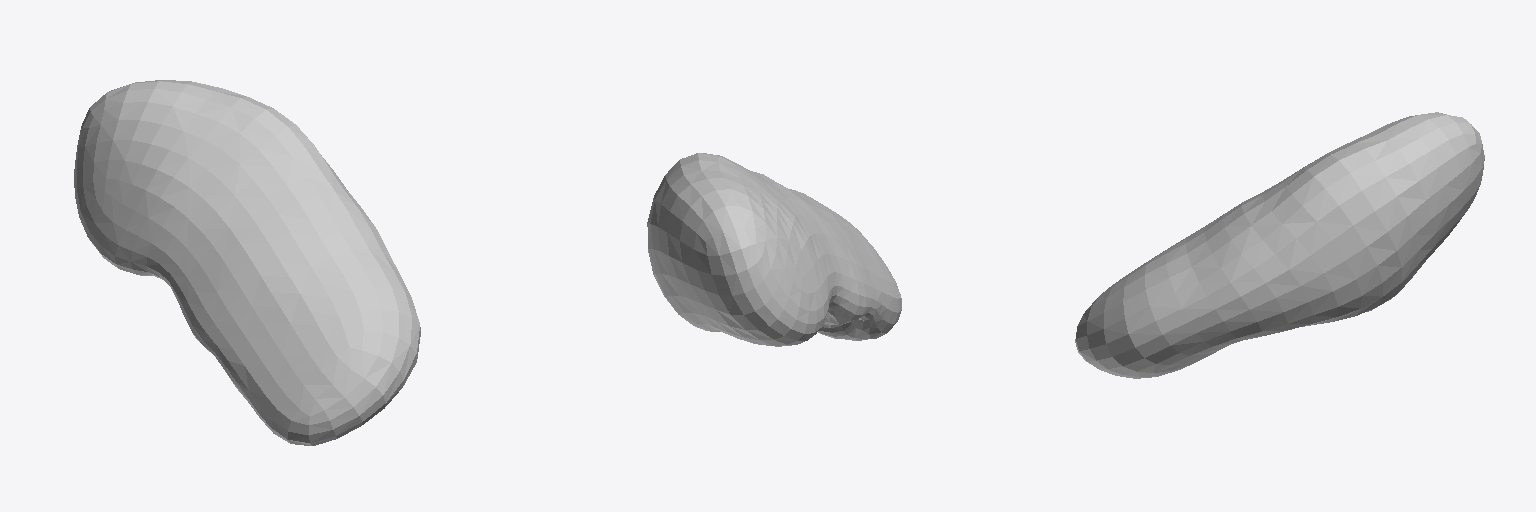
Rendered from 2K_Kidney_Right.OBJ.
3 views of the same model, side by side, from view 1: azimuth 30°, elevation 25°; view 2: azimuth 150°, elevation 25°; view 3: azimuth 270°, elevation 25° (orthographic).
Visible parts, largest first — view 1: ZBrushPolyMesh3D; view 2: ZBrushPolyMesh3D; view 3: ZBrushPolyMesh3D.
Part boxes in pixels (left/top/right/bottom): ZBrushPolyMesh3D: left=74, top=80, right=420, bottom=445; ZBrushPolyMesh3D: left=647, top=153, right=901, bottom=346; ZBrushPolyMesh3D: left=1075, top=112, right=1484, bottom=378.
Bounding box in the file's own units: 8.13 × 9.48 × 14.